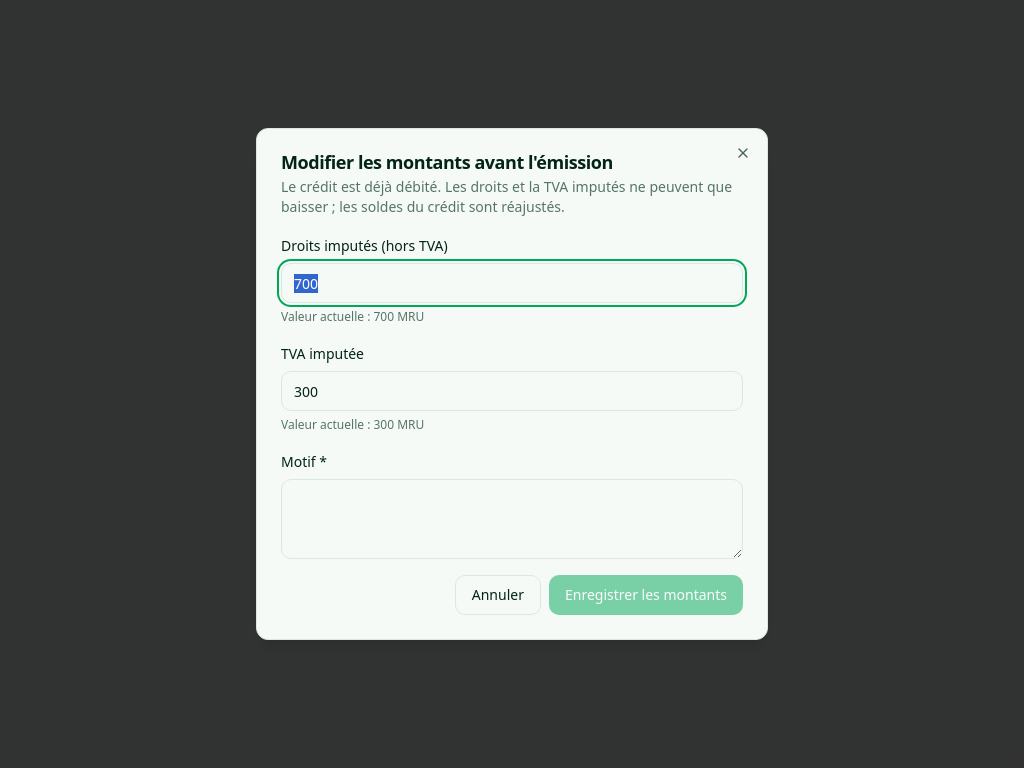
Scenario: dialogue « Modifier les montants » › préremplit les deux champs, exige le motif, refuse une hausse en douane, envoie le PATCH
Later steps or results of the test are not shown.
Expected: the field labelled "TVA imputée" holds "300", [281,371,743,411]
Expected: the button "Enregistrer les montants" is disabled, [549,575,743,615]
Replace the text in the field labelled "Droits imputés (hors TVA)" with "800" at (512, 283), box [281,263,743,303]
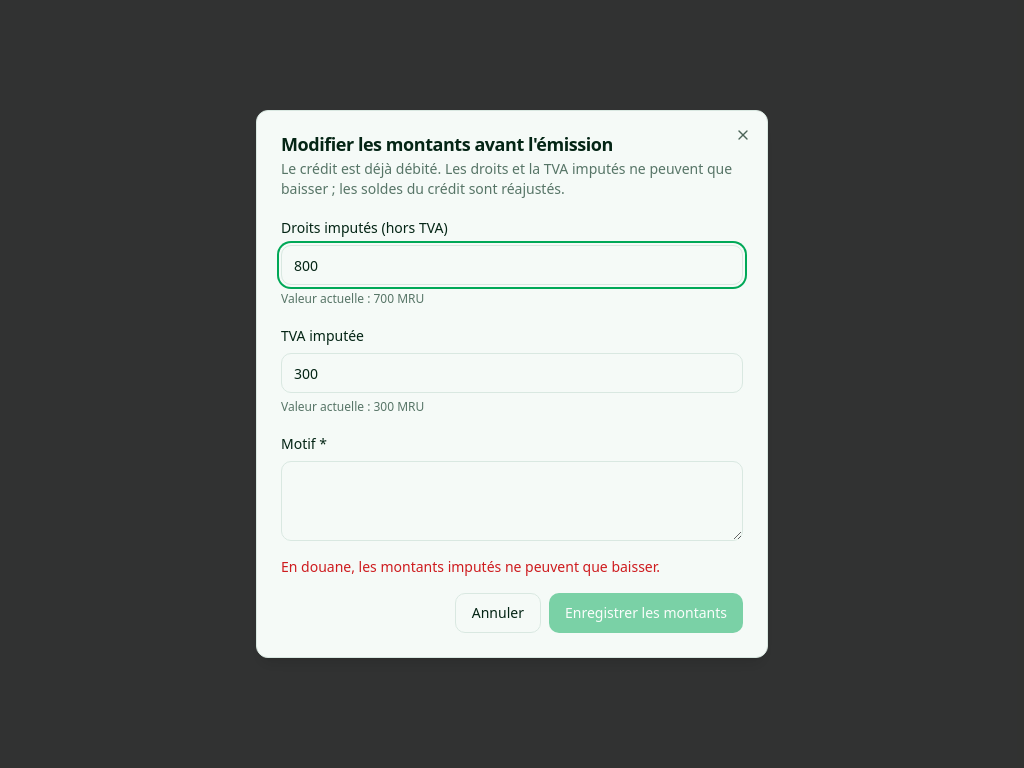
Now the message shows "ne peuvent que baisser", box [281,557,660,576]
Replace the text in the field labelled "Droits imputés (hors TVA)" with "600" at (512, 265), box [281,245,743,285]
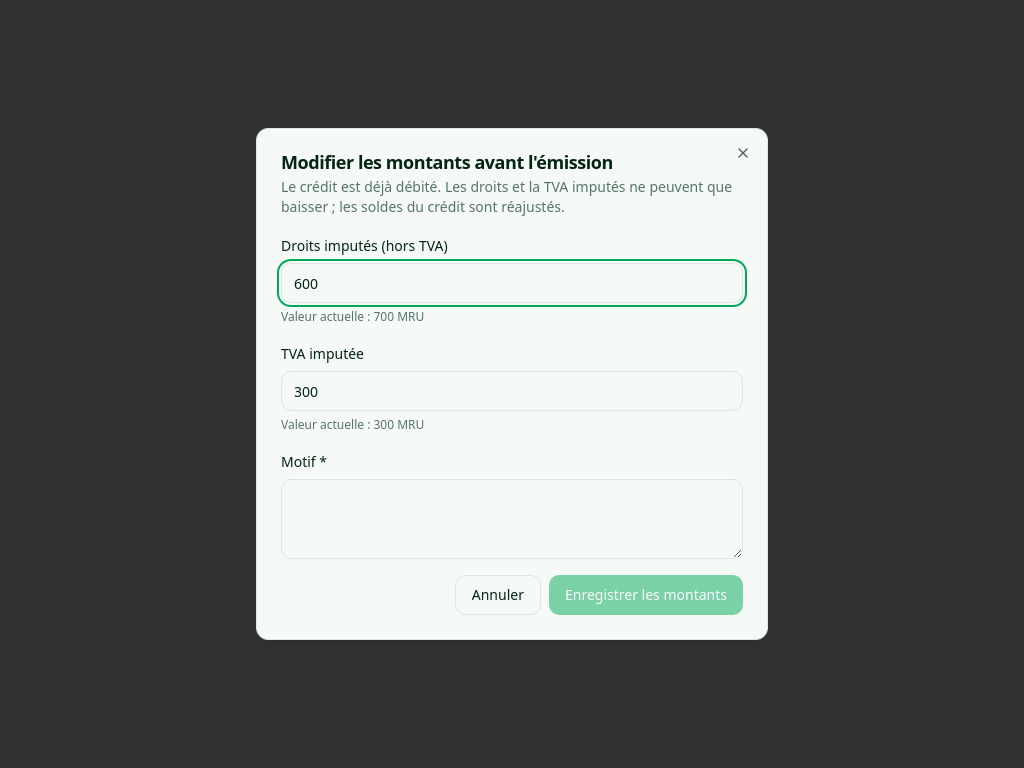
Expected: the button "Enregistrer les montants" is disabled, [549,575,743,615]
Type "Taux erroné" into the text box labelled "Motif *".
click(512, 519); type("Taux erroné")  # box [281,479,743,559]
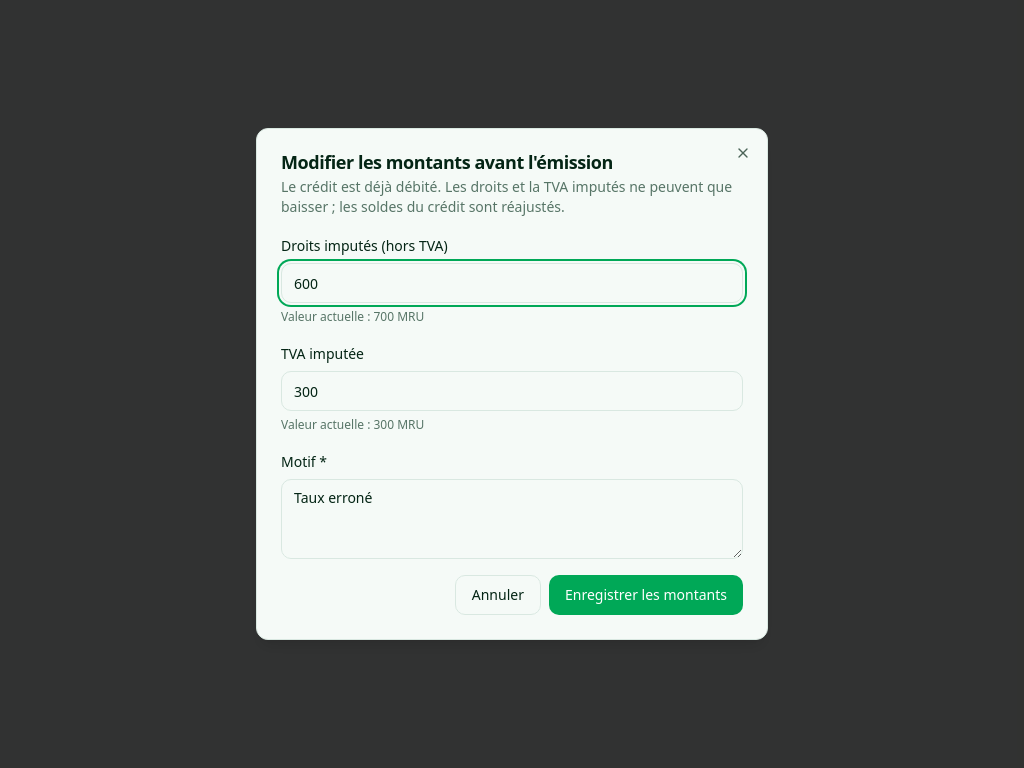
Now the button "Enregistrer les montants" is enabled, box [549,575,743,615]
